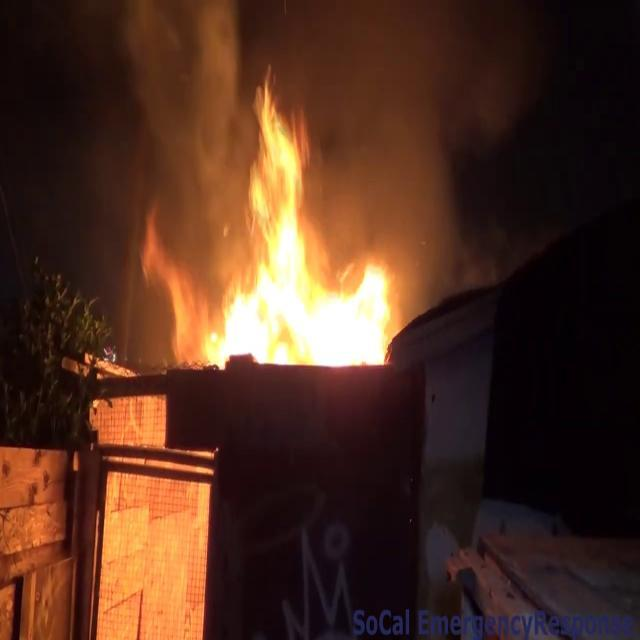Fire: (185, 84, 401, 376)
